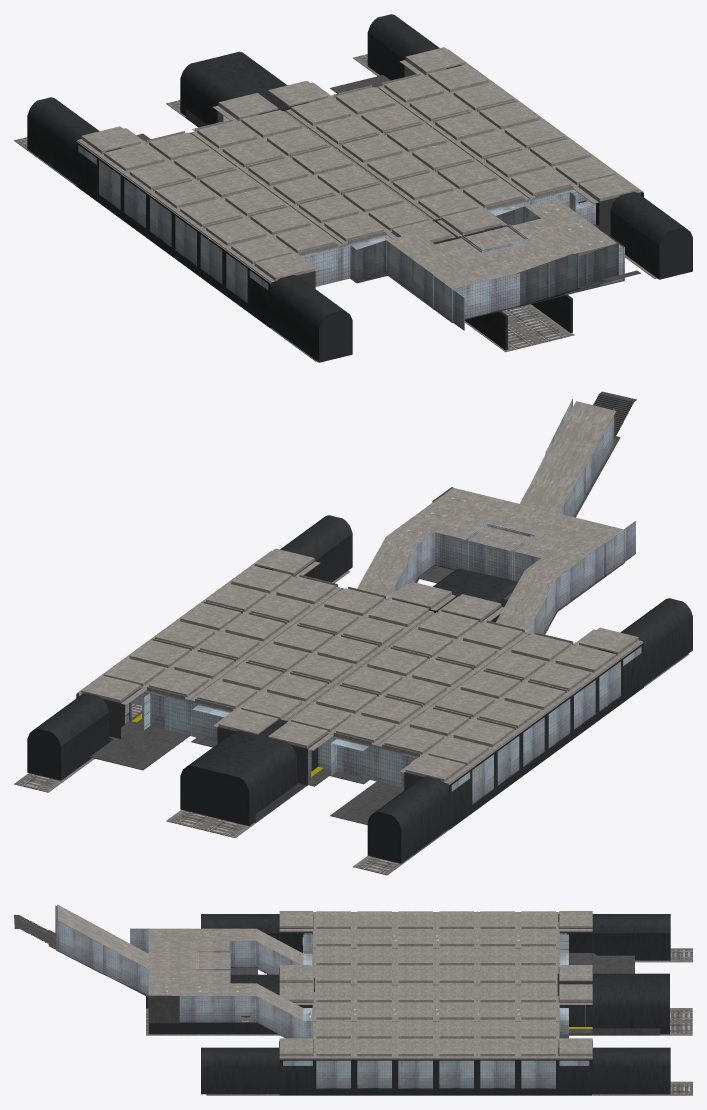
File: FullScene.fbx
3 views of the same model, one above another, from view 1: azimuth 30°, elevation 25°; view 2: azimuth 150°, elevation 25°; view 3: azimuth 270°, elevation 25° (orthographic). The views are drawn at different scales.
Visible parts, largest first — view 1: St_03.509; view 2: St_03.509; view 3: St_03.509.
Part boxes in pixels (x1=…): St_03.509: x1=14, y1=14, x2=692, y2=362; St_03.509: x1=14, y1=391, x2=692, y2=875; St_03.509: x1=14, y1=904, x2=692, y2=1095.
Size of the model in its own units: 5309 by 1849 by 10363.
